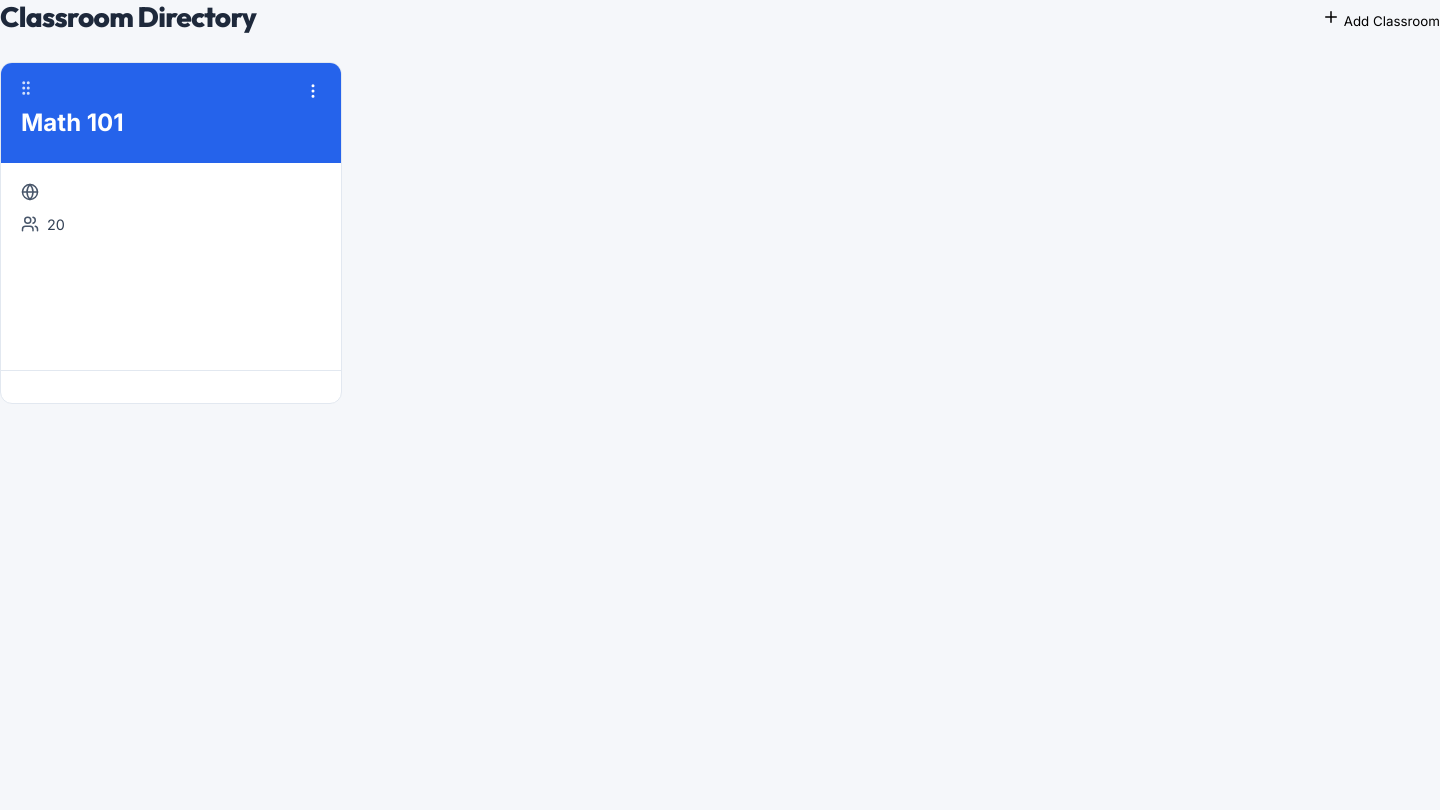
Classes Admin Page › Create Classroom dialog keyboard behaviour › puts focus on the first field when it opens
The width and height of the screenshot is (1440, 810).
Expected: the link "Math 101" is shown, [21,108,124,137]
Click the button with aria-label "Add new classroom" at (1381, 19), box [1322,8,1439,29]
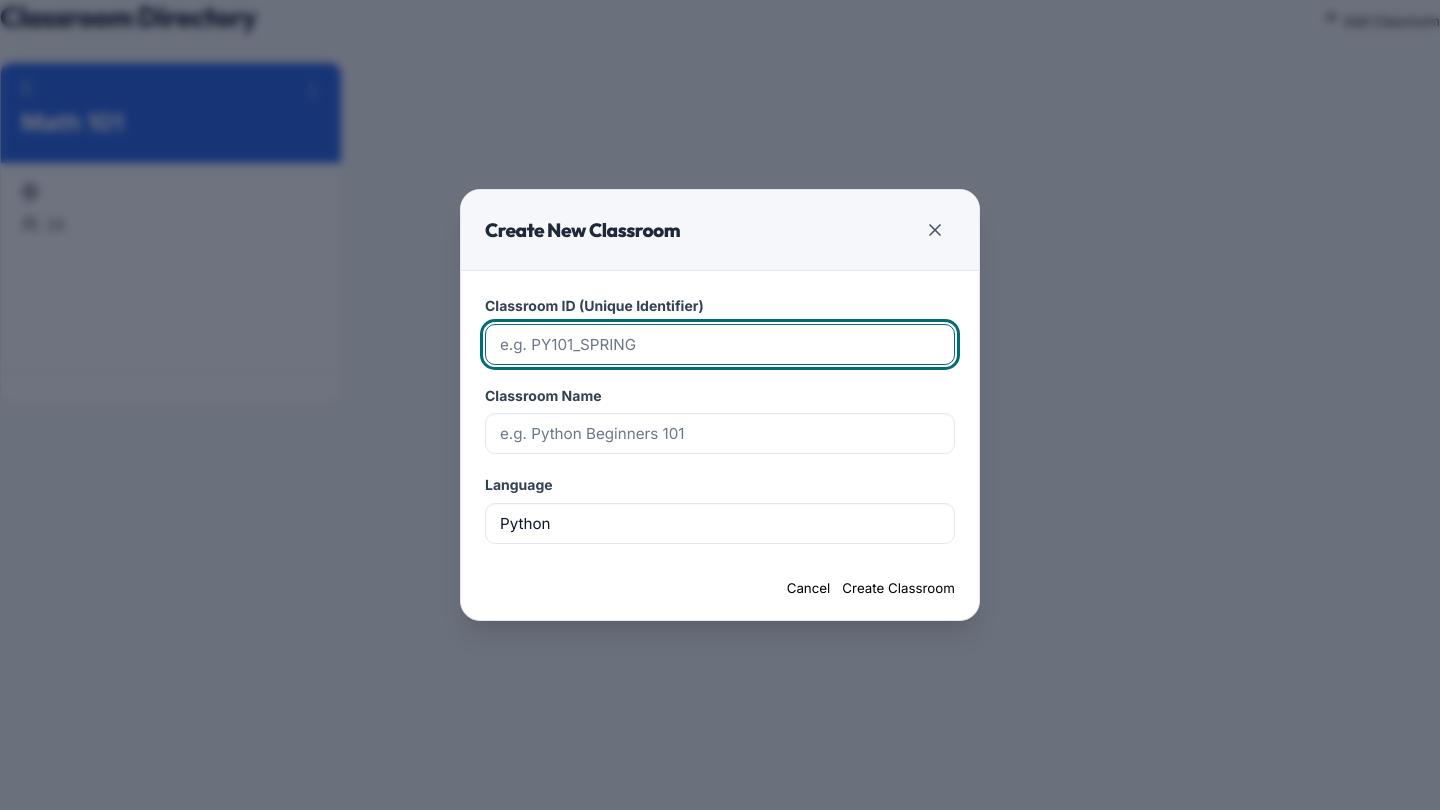
Expected: the dialog "Create New Classroom" is shown
